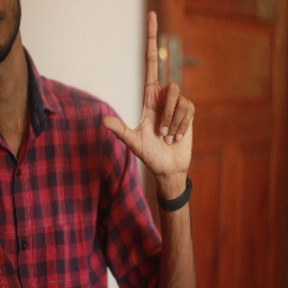L: (100, 9, 198, 175)
